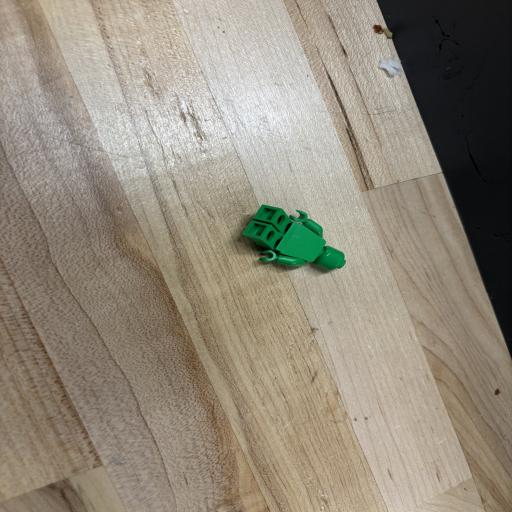green_lego_minifigure: (227, 172, 382, 294)
